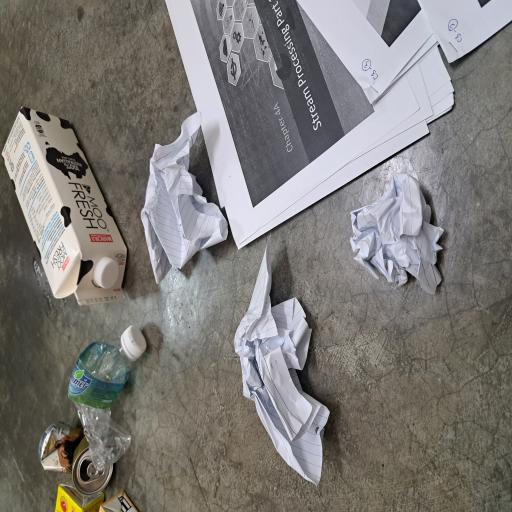can: (14, 51, 67, 152)
drink carton: (156, 2, 304, 169), (0, 72, 22, 139), (0, 131, 16, 188)
paper: (197, 221, 384, 512), (21, 310, 200, 442), (171, 187, 301, 305), (161, 465, 253, 512)
plastic bottle: (35, 89, 139, 198)
plastic bottle cap: (162, 123, 191, 164), (114, 160, 138, 198)
pop tab: (25, 116, 38, 143)
